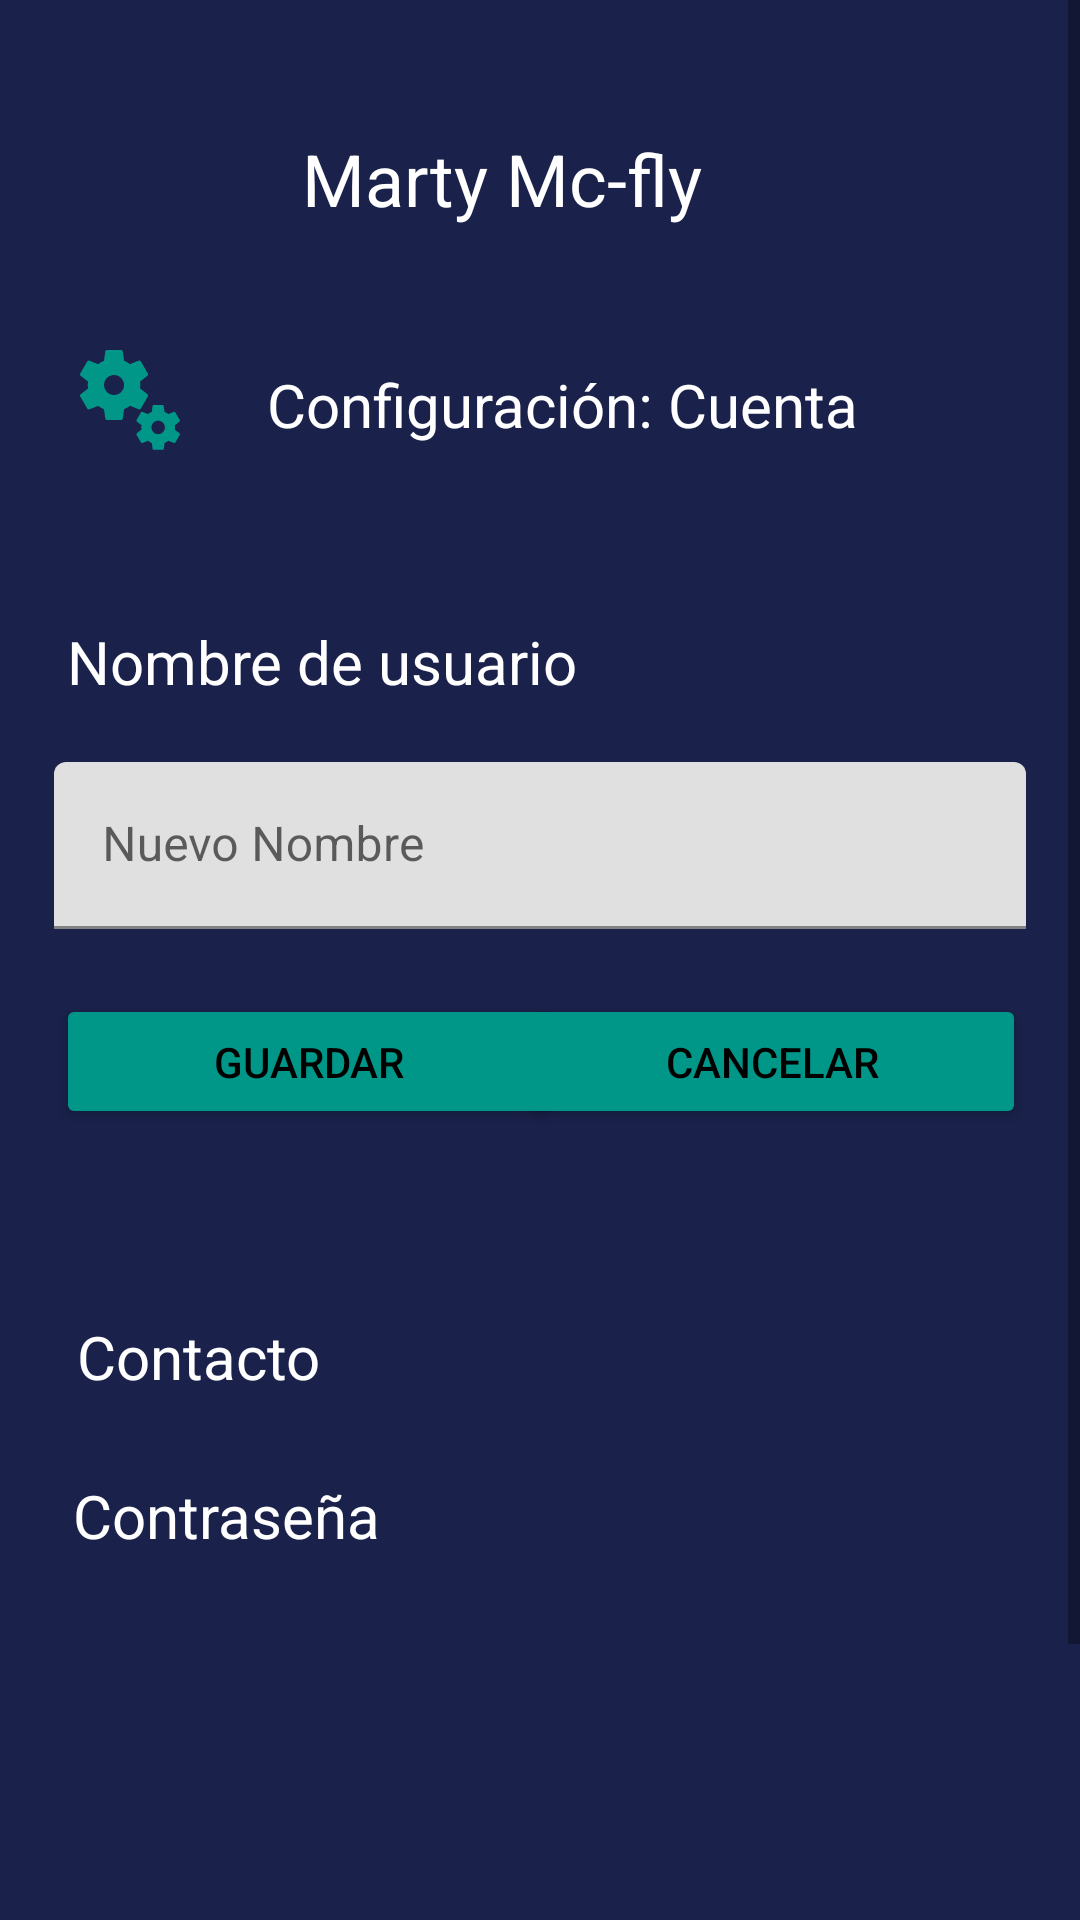

Icons on this 1080w x 1920h Android screen, each with the point to tap as (x=x, y=y):
configverde: (x=130, y=400)
